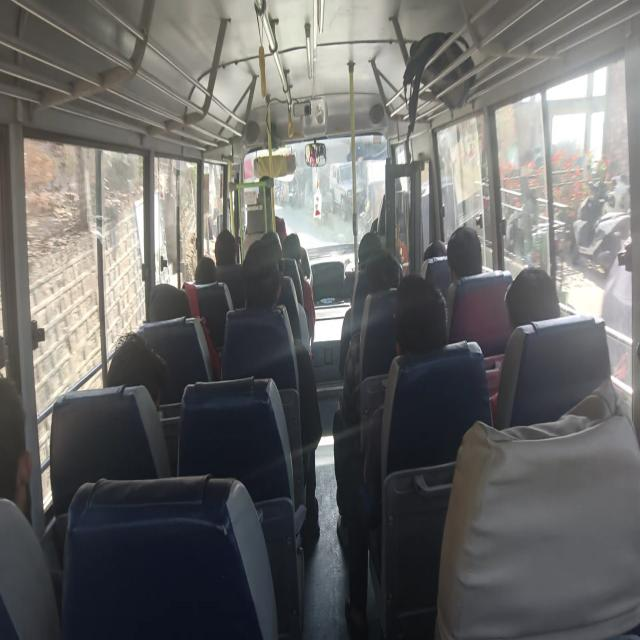person: (0, 361, 76, 544), (509, 272, 590, 337), (105, 330, 167, 398), (366, 249, 432, 312), (244, 253, 297, 329), (394, 297, 449, 362), (151, 283, 186, 335), (440, 233, 484, 274), (200, 255, 227, 304), (278, 226, 303, 266), (215, 231, 239, 267), (262, 232, 288, 263), (422, 233, 442, 260), (360, 228, 382, 246)
